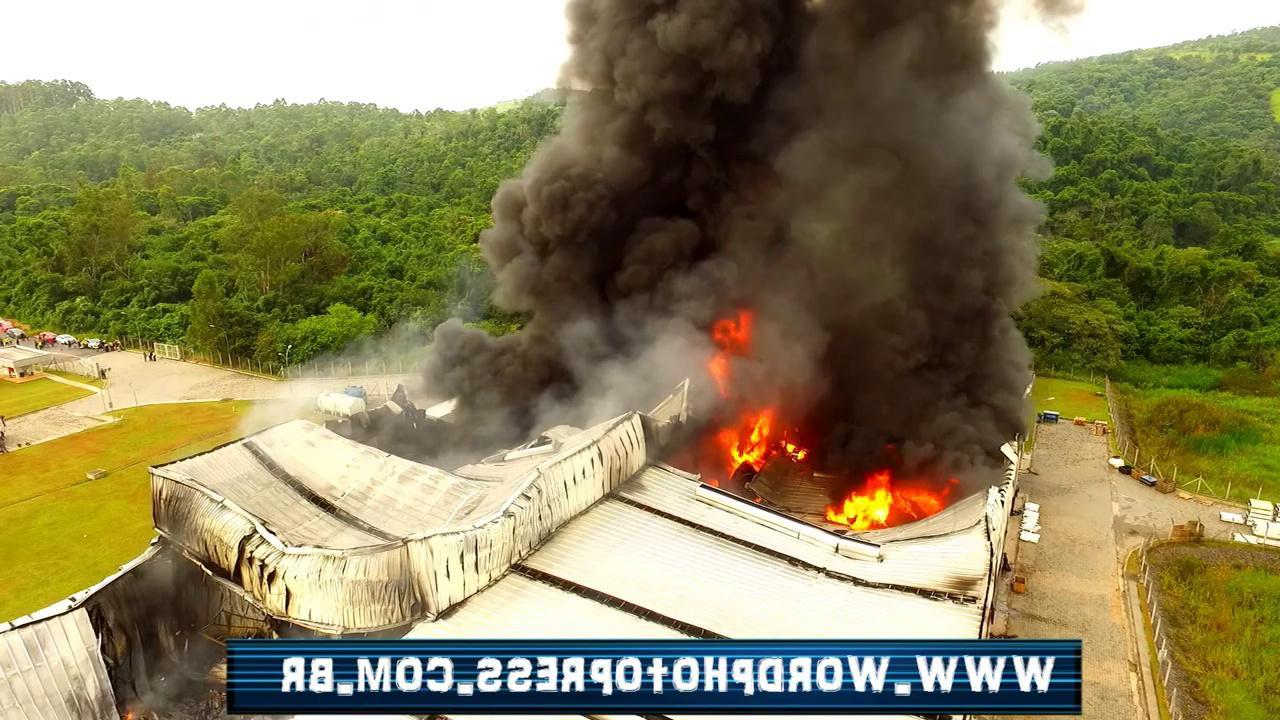Fire: (822, 465, 959, 537), (714, 404, 807, 479), (707, 310, 753, 402)
